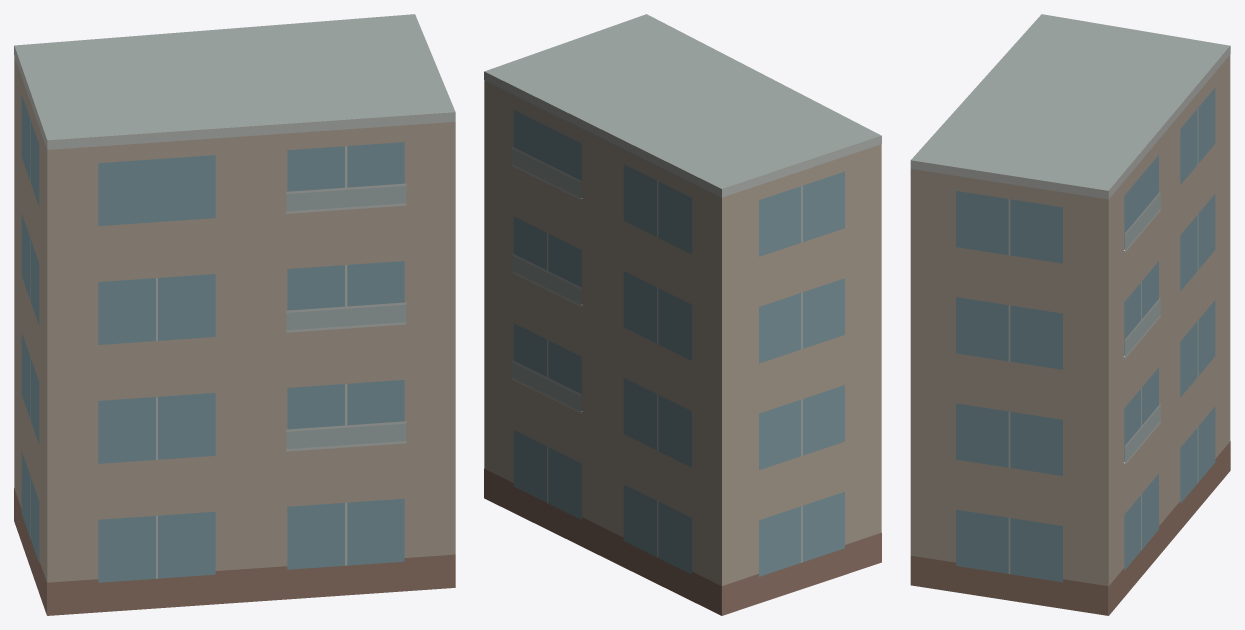
The model's file is survey-upis-32756275.glb.
3 renders of one model, left to right at view 1: azimuth 30°, elevation 25°; view 2: azimuth 150°, elevation 25°; view 3: azimuth 270°, elevation 25°, orthographic. The views are drawn at different scales.
Parts seen in each view (by area): view 1: survey-upis-32756275.tmp; view 2: survey-upis-32756275.tmp; view 3: survey-upis-32756275.tmp.
Boxes of the visible parts, x1,y1,x2,y2 form: survey-upis-32756275.tmp: (14,14,455,615); survey-upis-32756275.tmp: (484,14,881,615); survey-upis-32756275.tmp: (910,14,1230,615).
Bounding box in the file's own units: 10.81 × 12.1 × 8.26.
